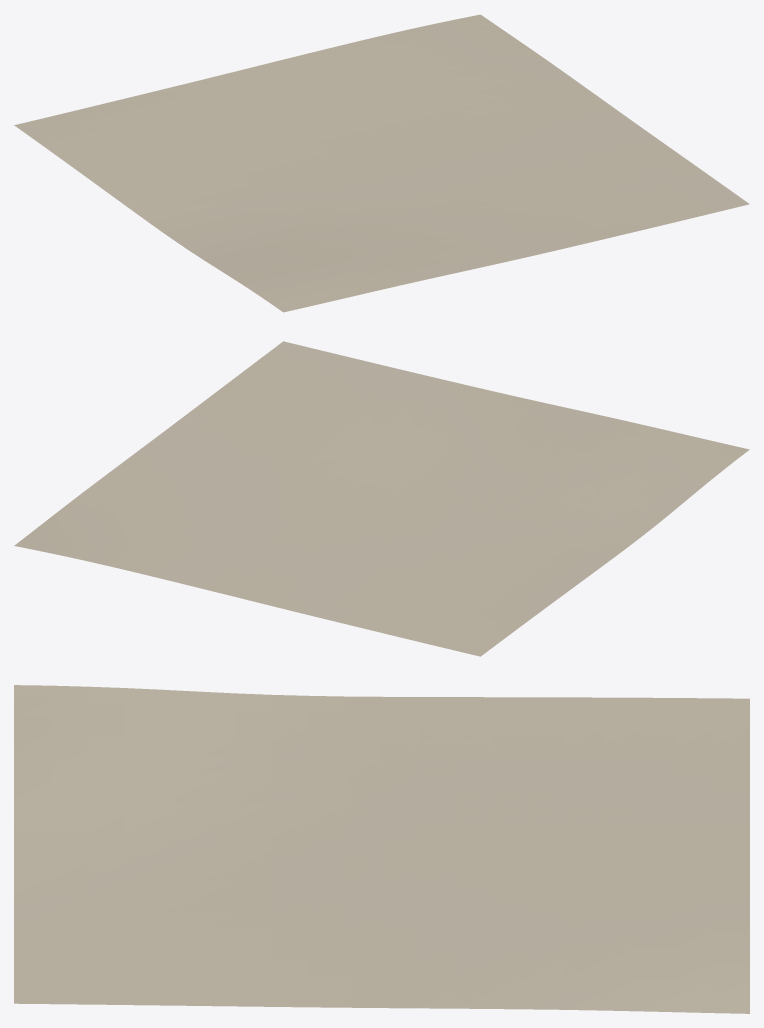
The model's file is bolak_-19_-12.glb.
3 renders of one model, top to bottom at view 1: azimuth 30°, elevation 25°; view 2: azimuth 150°, elevation 25°; view 3: azimuth 270°, elevation 25°, orthographic. The views are drawn at different scales.
Parts seen in each view (by area): view 1: Yer_Tuproq-col; view 2: Yer_Tuproq-col; view 3: Yer_Tuproq-col.
Boxes of the visible parts, box(x1,y1,x2,y2) form: Yer_Tuproq-col: box(14, 14, 749, 312); Yer_Tuproq-col: box(14, 341, 749, 656); Yer_Tuproq-col: box(14, 685, 749, 1013).
Bounding box in the file's own units: 400 × 10.68 × 400.
